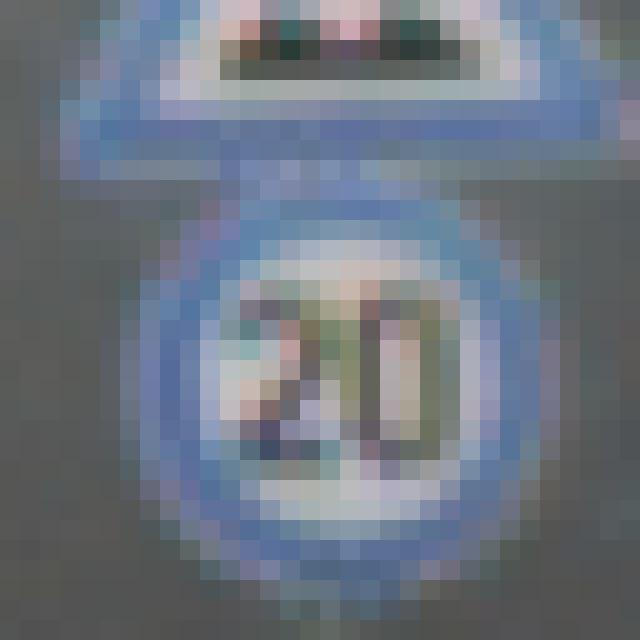SPEED LIMIT 20: (109, 185, 570, 620)
